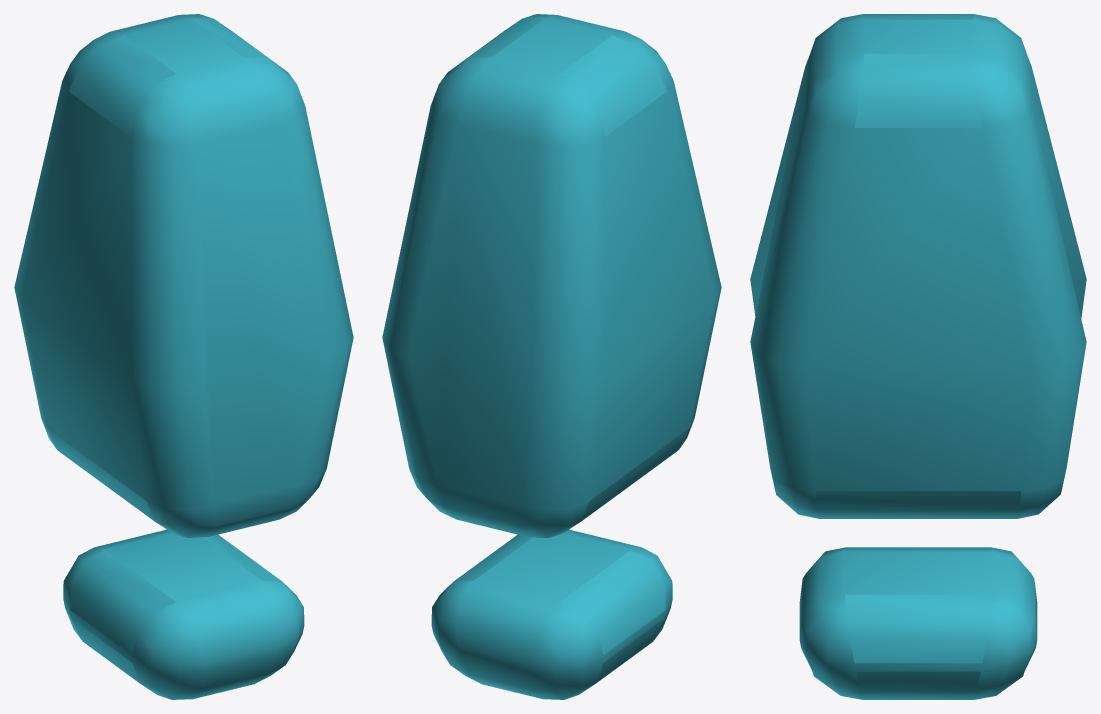
3 renders of one model, left to right at view 1: azimuth 30°, elevation 25°; view 2: azimuth 150°, elevation 25°; view 3: azimuth 270°, elevation 25°, orthographic. The views are drawn at different scales.
Visible parts, largest first — view 1: _; view 2: _; view 3: _.
Part boxes in pixels (x1=…): _: x1=14, y1=14, x2=353, y2=699; _: x1=382, y1=14, x2=721, y2=699; _: x1=750, y1=14, x2=1086, y2=699.
Size of the model in its own units: 47.38 by 131 by 62.09.
